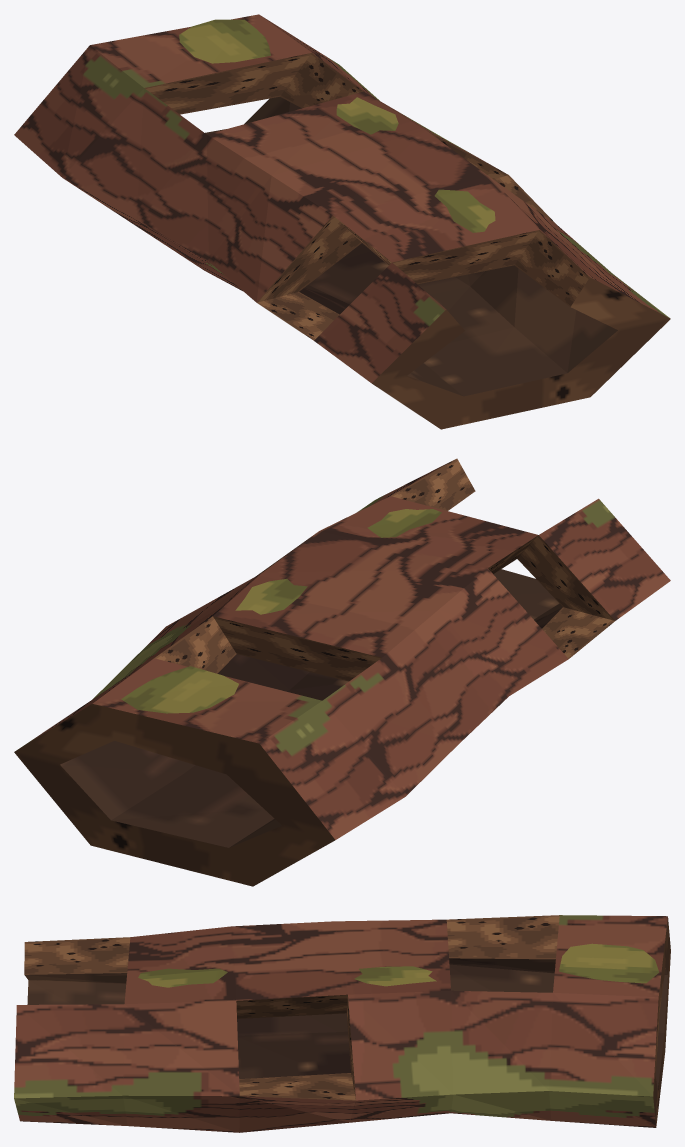
Rendered from SM_DW04_LogRotten.fbx.
3 renders of one model, top to bottom at view 1: azimuth 30°, elevation 25°; view 2: azimuth 150°, elevation 25°; view 3: azimuth 270°, elevation 25°, orthographic. The views are drawn at different scales.
Parts seen in each view (by area): view 1: DW04_Bark, DW04_Wood, DW04_Moss; view 2: DW04_Bark, DW04_Wood, DW04_Moss; view 3: DW04_Bark, DW04_Wood, DW04_Moss.
Boxes of the visible parts, box(x1,y1,x2,y2) form: DW04_Bark: box(14, 14, 669, 383); DW04_Wood: box(144, 53, 670, 429); DW04_Moss: box(179, 19, 495, 232); DW04_Bark: box(18, 460, 670, 839); DW04_Wood: box(14, 458, 614, 886); DW04_Moss: box(121, 509, 441, 713); DW04_Bark: box(14, 915, 667, 1132); DW04_Wood: box(24, 915, 670, 1126); DW04_Moss: box(138, 943, 659, 987).
Size of the model in its own units: 1.38 by 0.5698 by 2.47.
